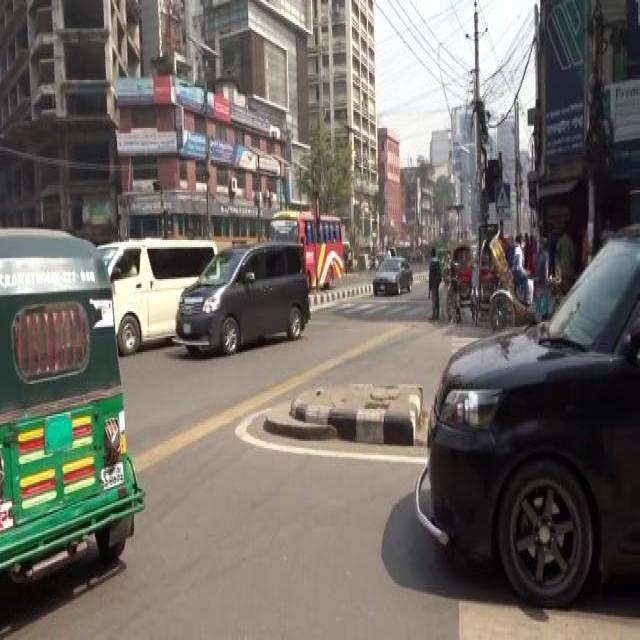bus: (267, 208, 343, 283)
car: (421, 230, 639, 606), (371, 255, 413, 293)
minivan: (174, 241, 308, 349)
rickshaw: (488, 230, 560, 332), (445, 239, 473, 319), (474, 236, 492, 318), (388, 243, 396, 255)
three wheelers -CNG-: (0, 226, 140, 574)
van: (94, 238, 220, 342)
